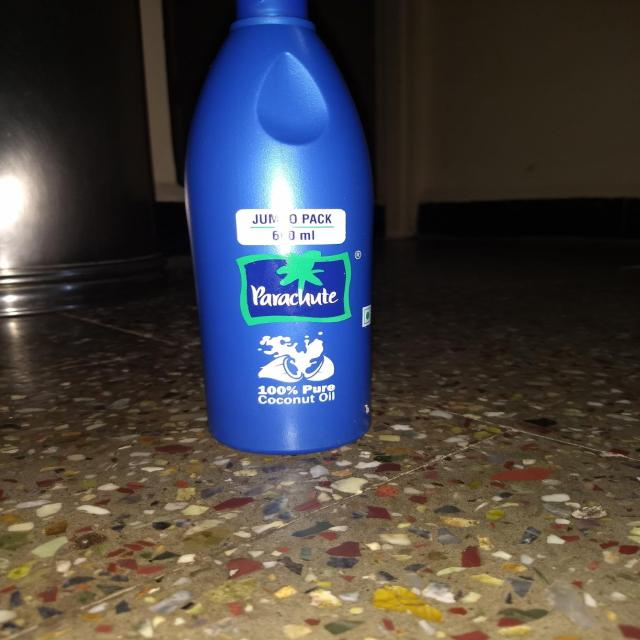parachute_oil: (178, 5, 389, 468)
